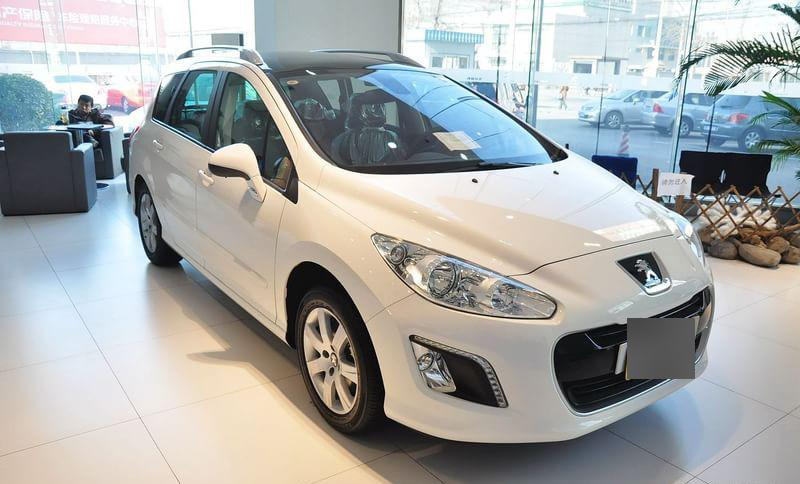Wagon: (126, 45, 717, 446)
